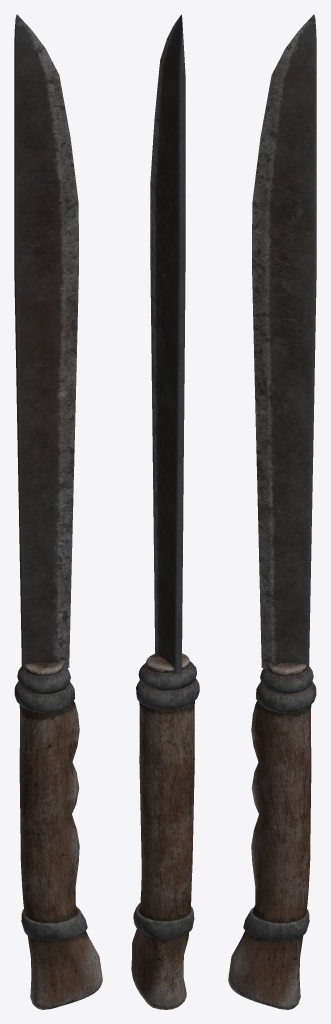
Rendered from machete.glb.
3 renders of one model, left to right at view 1: azimuth 90°, elevation 25°; view 2: azimuth 210°, elevation 25°; view 3: azimuth 270°, elevation 25°, orthographic.
Visible parts, largest first — view 1: machete; view 2: machete; view 3: machete.
Part boxes in pixels (<box>): machete: <box>14,14,102,1009</box>; machete: <box>131,14,199,1009</box>; machete: <box>228,14,316,1009</box>.
Size of the model in its own units: 0.0444 by 0.7548 by 0.0611.
1 material, 1 textured.
